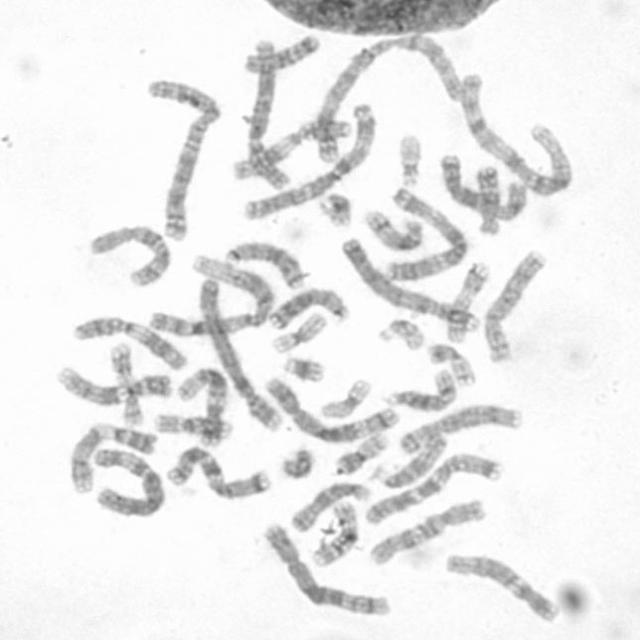A1: (452, 65, 576, 197), (142, 250, 278, 338)
A2: (304, 27, 466, 166), (137, 70, 223, 244)
A3: (232, 99, 378, 222), (379, 180, 470, 282)
B4: (334, 229, 483, 336), (191, 266, 286, 432)
B5: (255, 517, 392, 619), (257, 370, 398, 444)
C10: (362, 492, 488, 568), (82, 218, 174, 289)
C11: (226, 111, 356, 183), (64, 310, 190, 372)
C12: (438, 546, 562, 624), (171, 361, 230, 448)
C6: (240, 32, 293, 191), (85, 440, 167, 519)
C7: (357, 447, 504, 526), (160, 439, 272, 501)
C8: (476, 243, 549, 364), (392, 397, 526, 456)
C9: (64, 416, 161, 495), (49, 358, 175, 405)
D13: (218, 233, 308, 291), (262, 280, 353, 330)
D14: (379, 362, 460, 412), (358, 203, 426, 252)
D15: (365, 426, 450, 490), (283, 475, 373, 534)
E16: (304, 494, 362, 568), (147, 406, 235, 442)
E17: (439, 254, 492, 344), (103, 337, 147, 427)
E18: (237, 28, 322, 74), (468, 158, 504, 236)
F19: (264, 306, 328, 354), (312, 372, 374, 421)
F20: (328, 425, 392, 476), (420, 335, 478, 387)
G21: (313, 185, 355, 229), (276, 349, 328, 384)
G22: (390, 126, 426, 188), (372, 312, 426, 352)
X: (433, 146, 529, 222)
Y: (274, 441, 316, 480)
